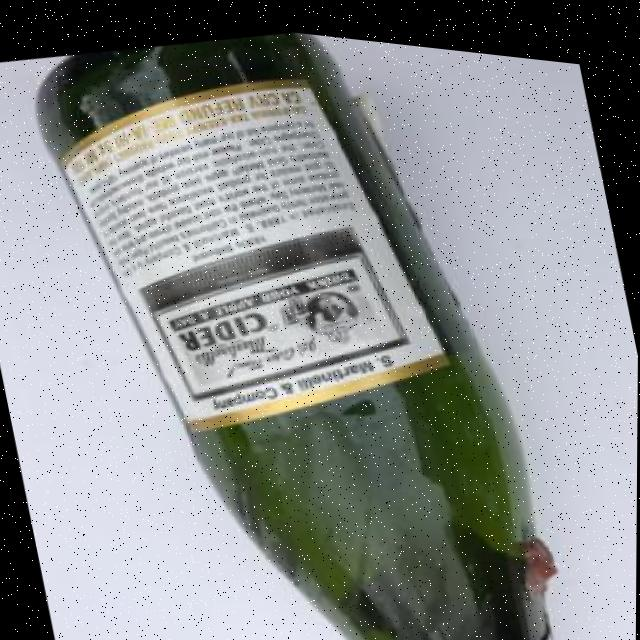glass: (9, 1, 584, 640)
